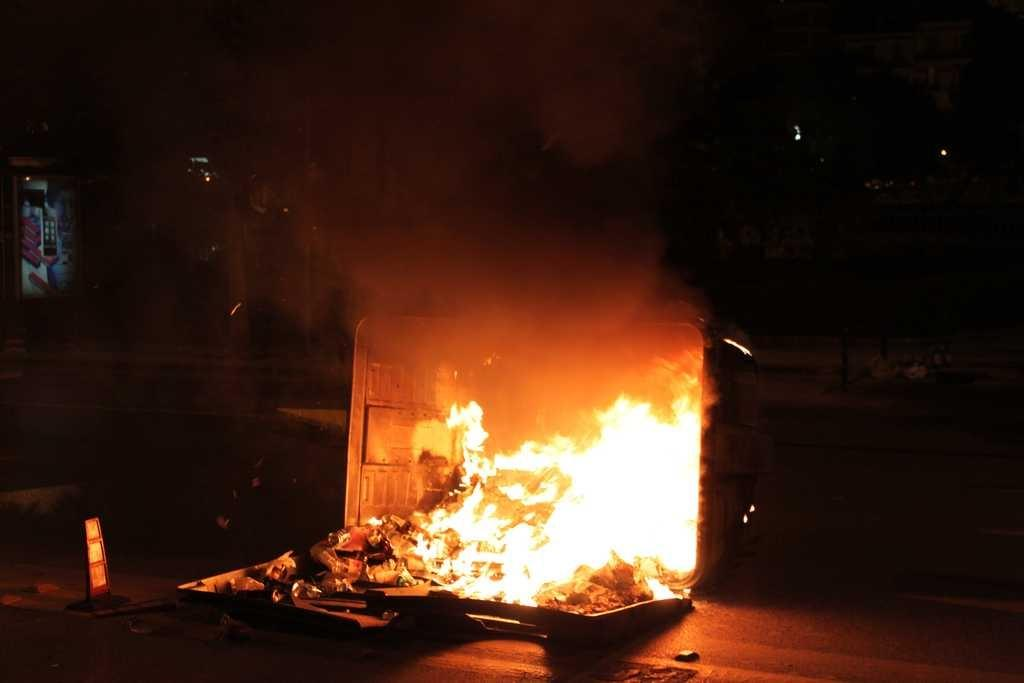fire: (600, 428, 702, 573), (543, 522, 595, 585)
